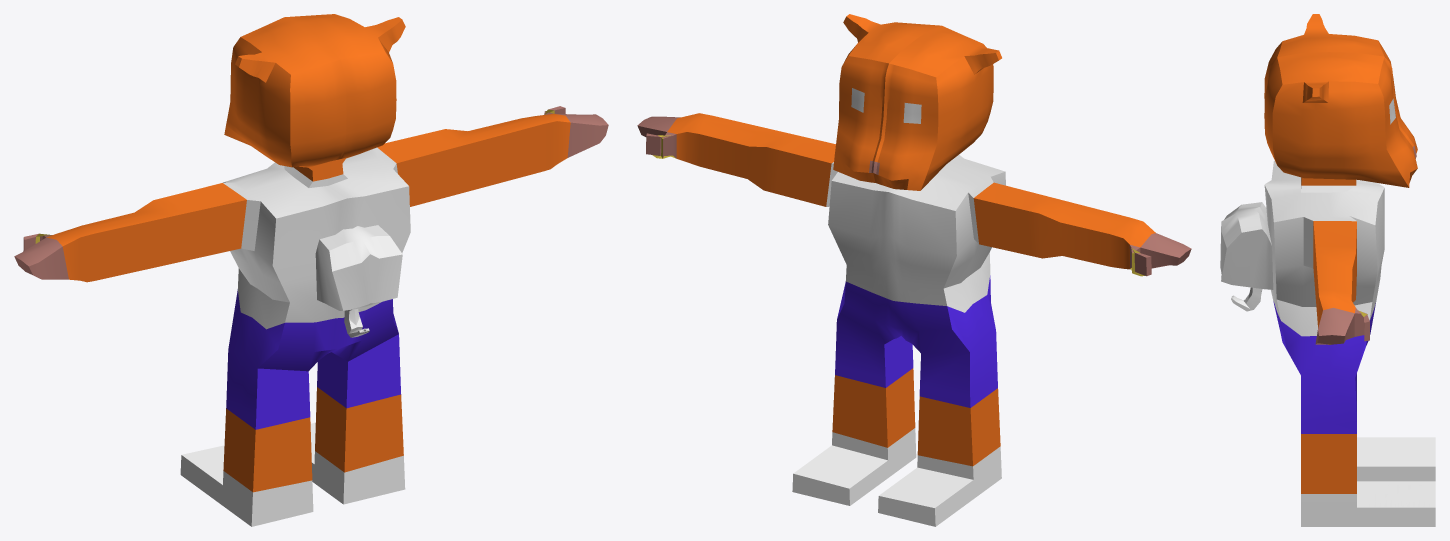
Rendered from Yakuin Colorbboy.glb.
The picture shows the model from 3 angles, left to right: view 1: azimuth 30°, elevation 25°; view 2: azimuth 150°, elevation 25°; view 3: azimuth 270°, elevation 25°; orthographic projection. The views are drawn at different scales.
Parts seen in each view (by area): view 1: Cube; view 2: Cube; view 3: Cube.
Boxes of the visible parts, x1=… form: Cube: x1=14, y1=14, x2=608, y2=526; Cube: x1=637, y1=14, x2=1191, y2=526; Cube: x1=1220, y1=14, x2=1435, y2=526.
Size of the model in its own units: 7.58 by 5.78 by 2.56.
Materials: 1 (1 with a texture image).
